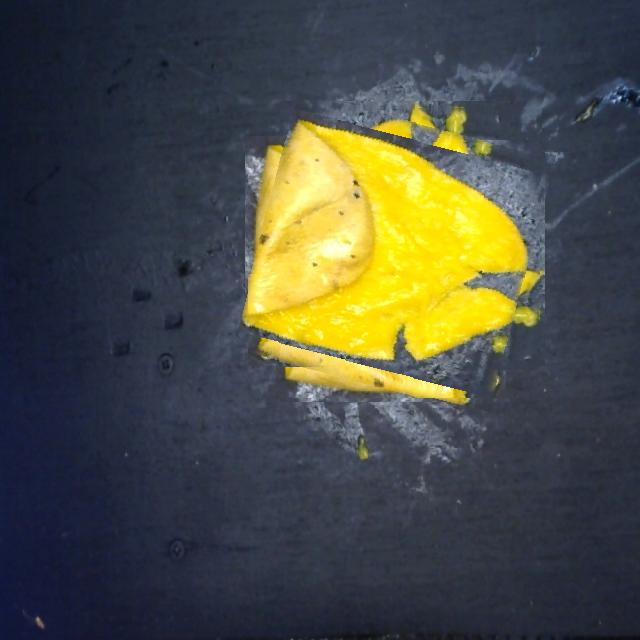biodegradable: (248, 105, 542, 398)
